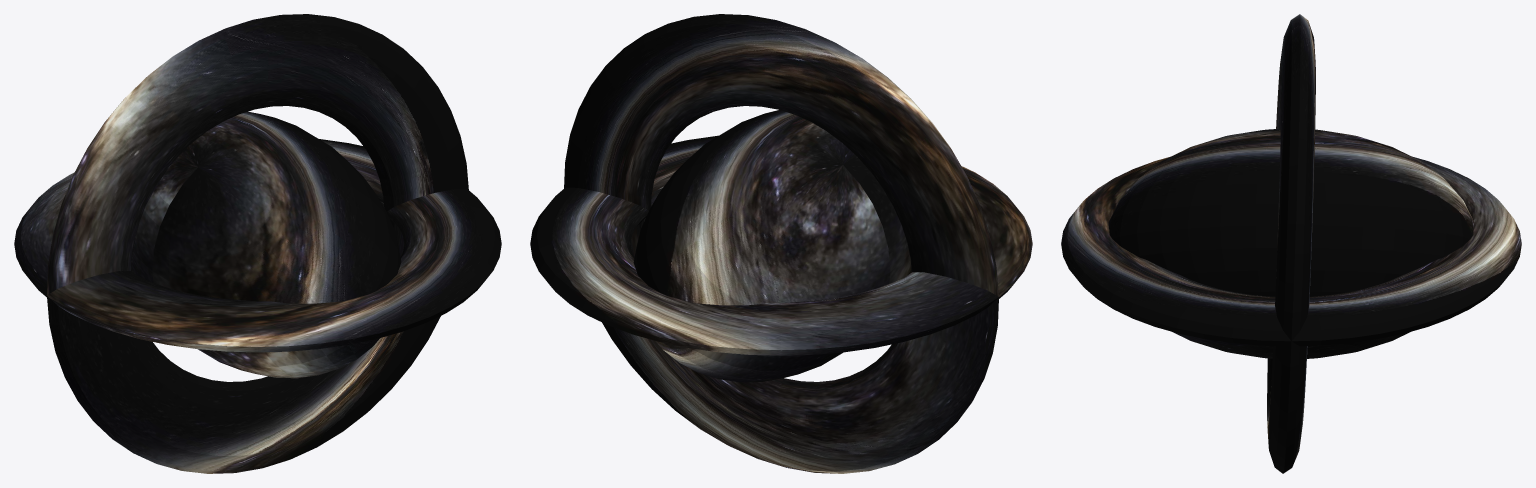
The model's file is blackhole2.fbx.
3 views of the same model, side by side, from view 1: azimuth 30°, elevation 25°; view 2: azimuth 150°, elevation 25°; view 3: azimuth 270°, elevation 25° (orthographic). The views are drawn at different scales.
Visible parts, largest first — view 1: Тор.001, Сфера, Тор; view 2: Тор.001, Сфера, Тор; view 3: Сфера, Тор, Тор.001.
Boxes of the visible parts, box(x1,y1,x2,y2) form: Тор.001: box(47, 14, 468, 473); Сфера: box(131, 111, 401, 378); Тор: box(14, 139, 501, 352); Тор.001: box(564, 14, 998, 473); Сфера: box(633, 110, 911, 382); Тор: box(530, 135, 1032, 355); Сфера: box(1108, 129, 1474, 358); Тор: box(1061, 156, 1521, 346); Тор.001: box(1267, 14, 1315, 473).
Bounding box in the file's own units: 550 × 549 × 550.
2 materials, 2 textured.
